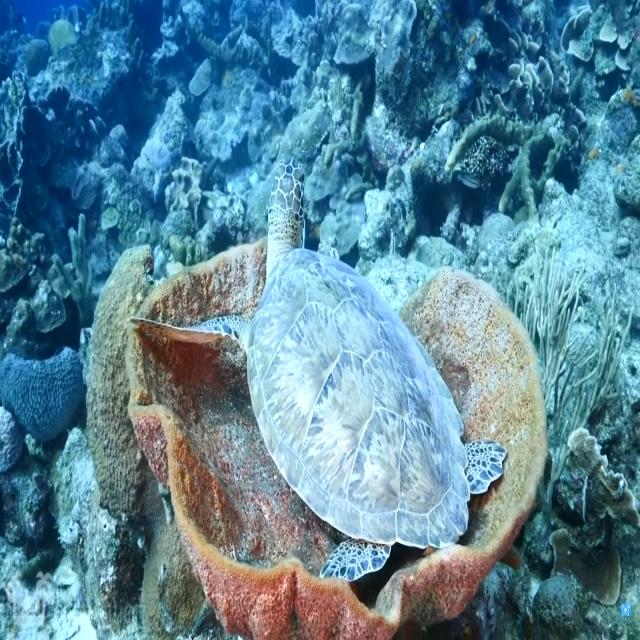Sea turtle: (128, 160, 506, 590)
